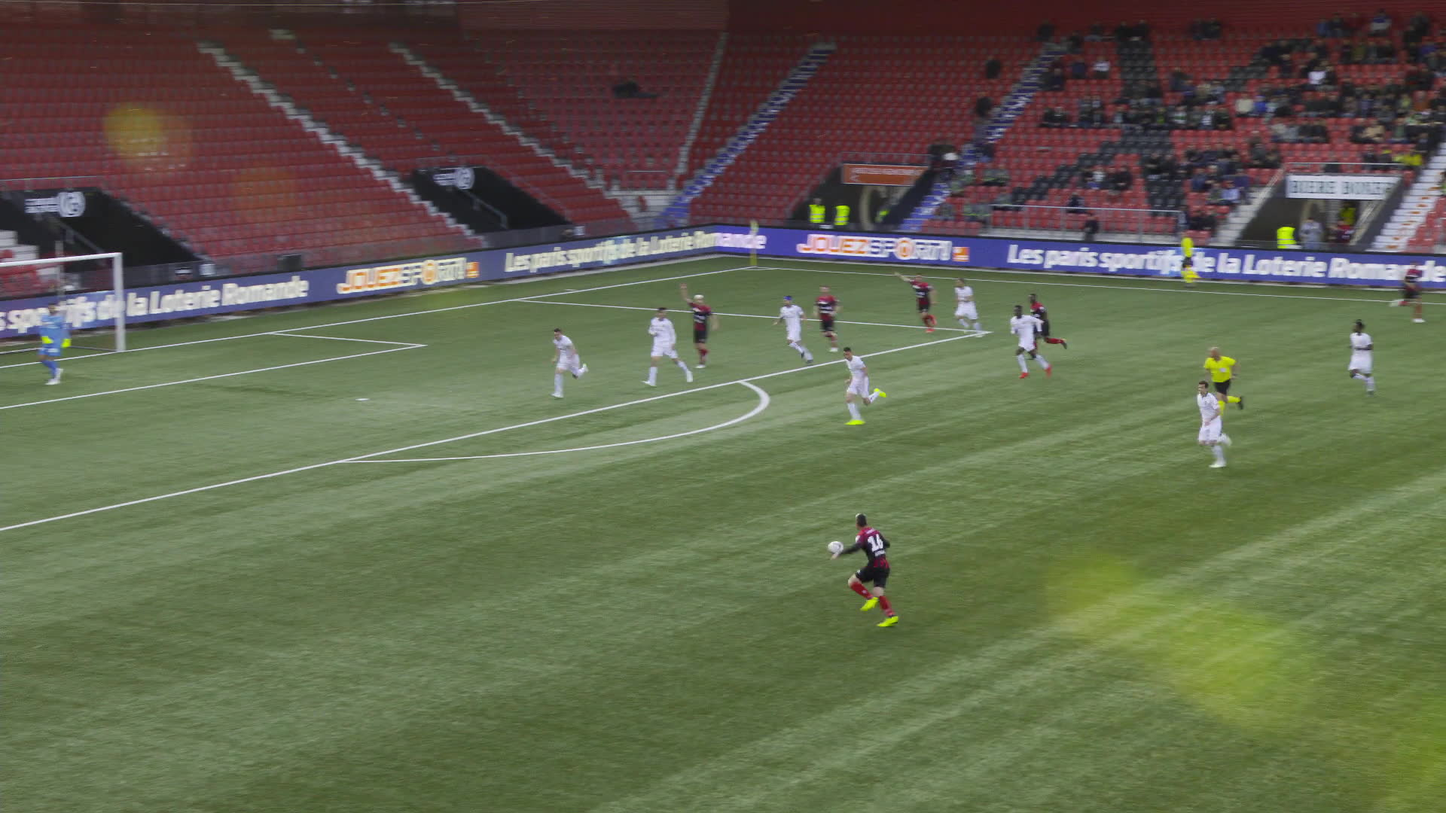ball: (828, 540, 843, 553)
player: (840, 510, 914, 625), (842, 348, 886, 425), (640, 308, 680, 385), (1005, 306, 1046, 381), (1196, 381, 1231, 468), (30, 304, 65, 385), (772, 295, 812, 365), (1345, 319, 1381, 396), (673, 287, 706, 367), (886, 270, 929, 331), (1026, 293, 1066, 356), (545, 330, 580, 397), (1390, 262, 1424, 323), (813, 285, 841, 351), (953, 277, 981, 337)
referee: (1194, 348, 1230, 422), (1179, 232, 1195, 288)
